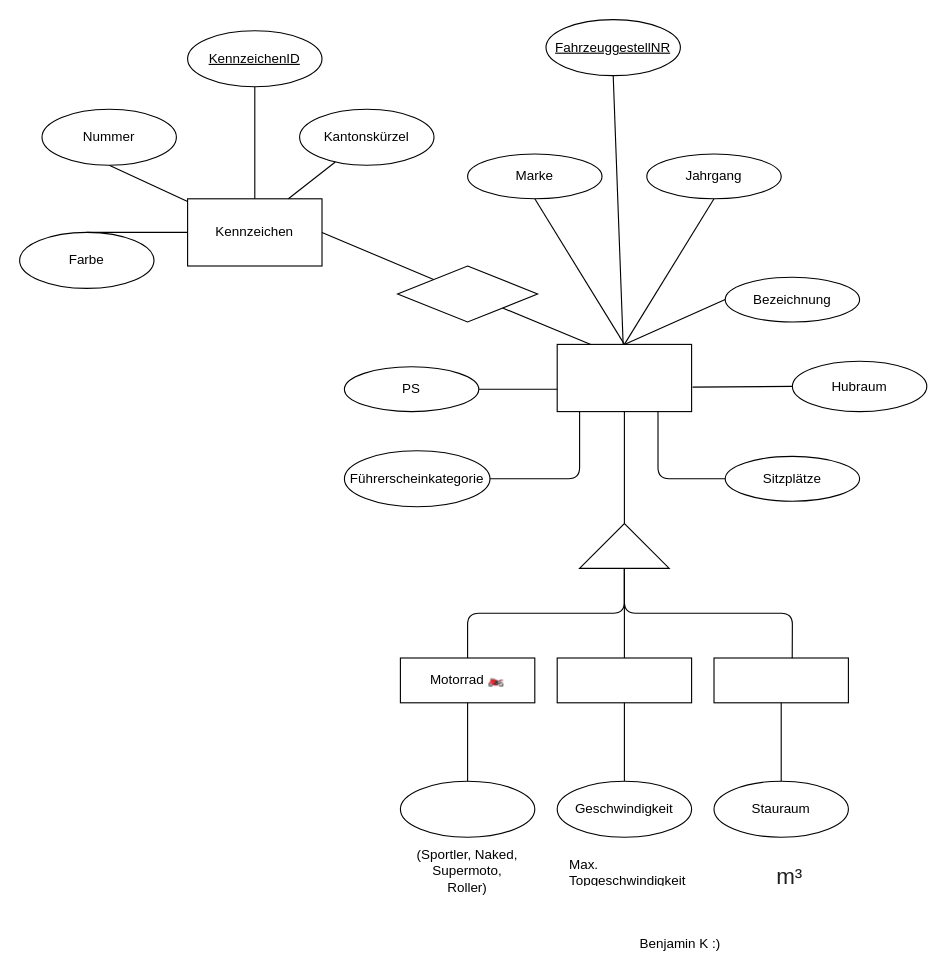
This 946x980 diagram has some shape labels left out. The shapes that lost their labels are listed below. From the top down, each one's centre as x and y in pixels, then its label:
point 467,293: besitzt
point 624,377: Fahrzeug
point 623,545: is-a
point 624,680: Sportwagen 🏎️
point 780,680: Lastwagen 🚚
point 467,808: Bauart
